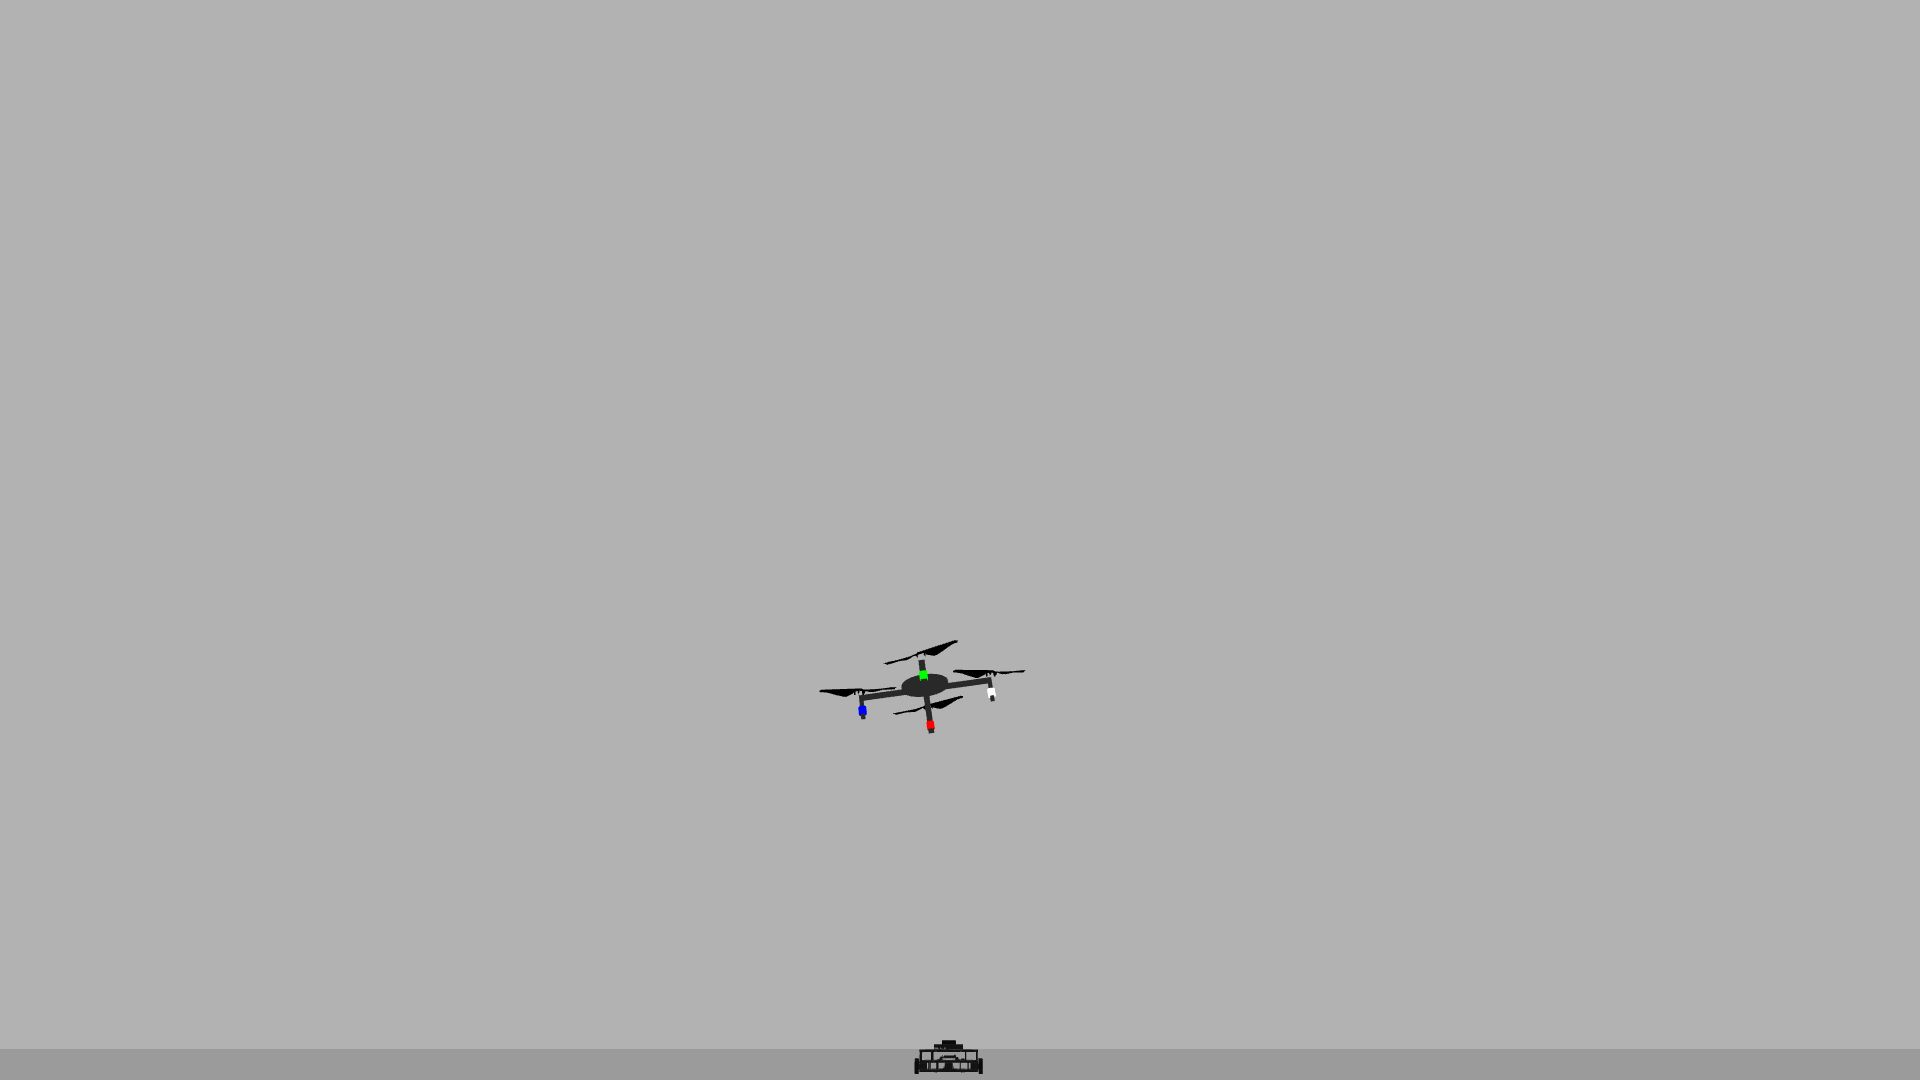drone: (808, 615, 1040, 746)
